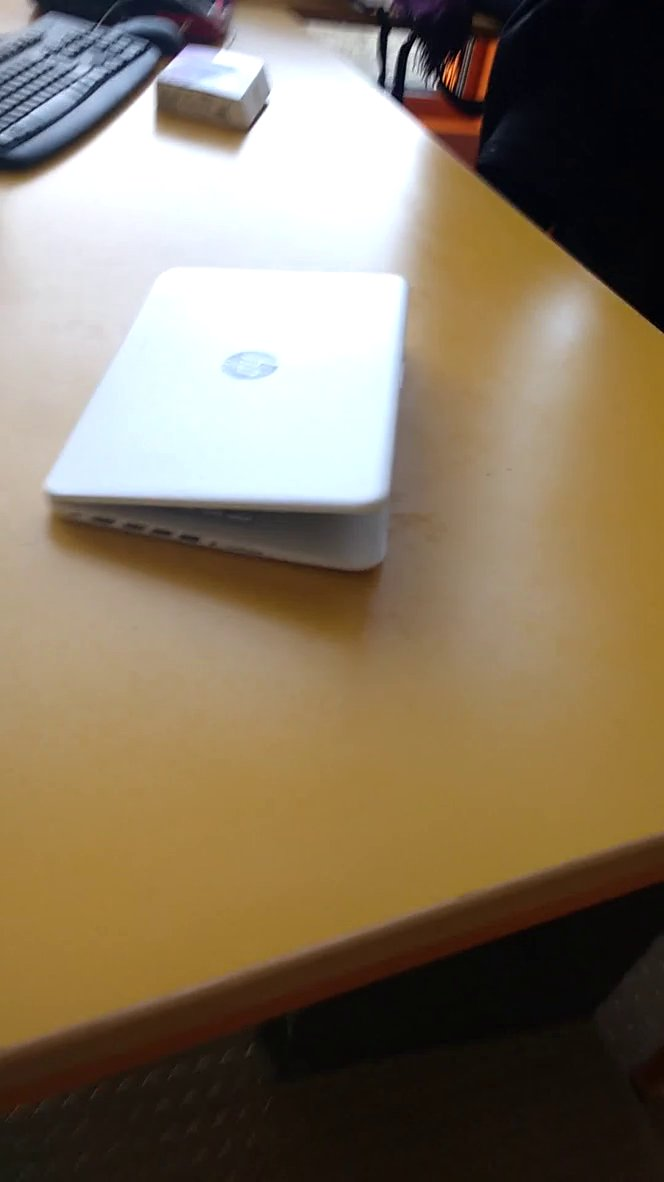laptop: (27, 241, 457, 592)
